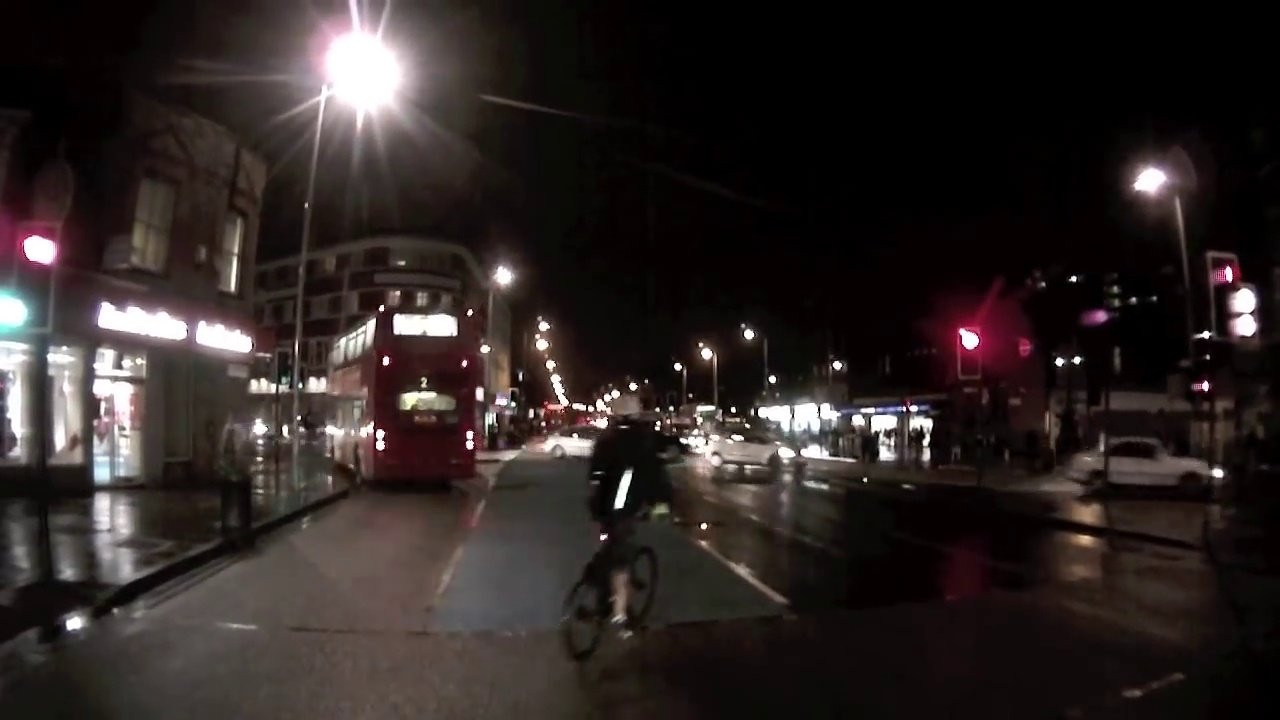cyclist_back: (571, 390, 674, 673)
